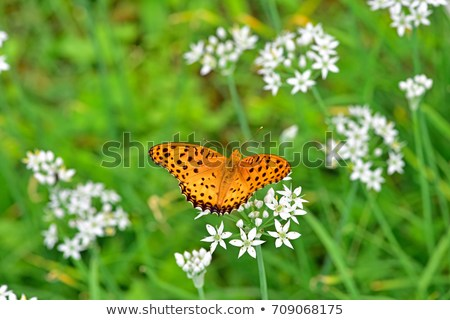Argyreus hyperbius: (142, 123, 293, 216)
butterfly: (144, 125, 295, 218)
